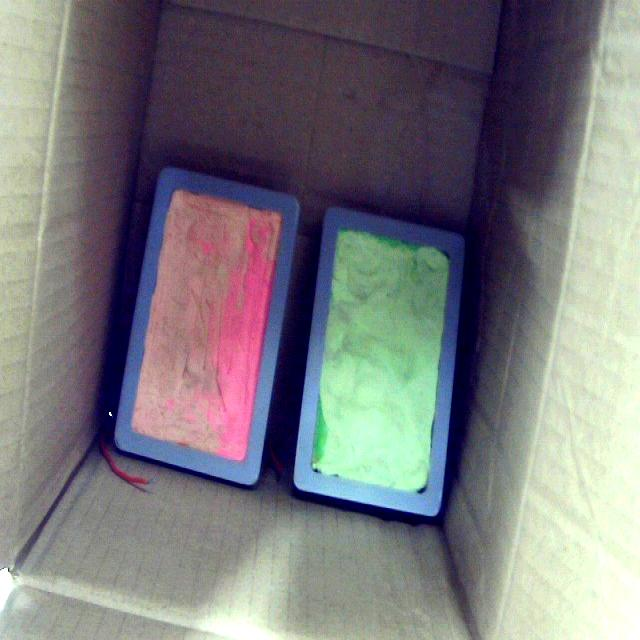block: (113, 170, 301, 491), (292, 208, 464, 520)
